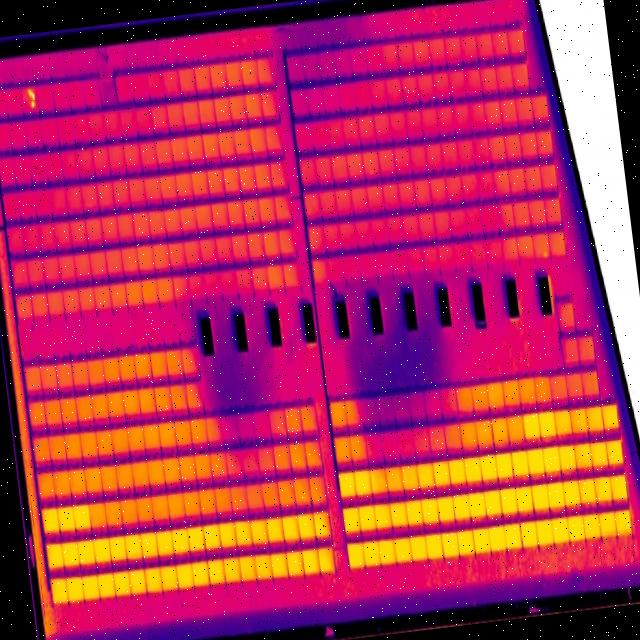Hotspot: (342, 473, 626, 539), (45, 508, 328, 571), (338, 436, 623, 495), (51, 544, 330, 604), (348, 509, 630, 568), (520, 398, 619, 438), (38, 502, 88, 534), (26, 85, 34, 106)
